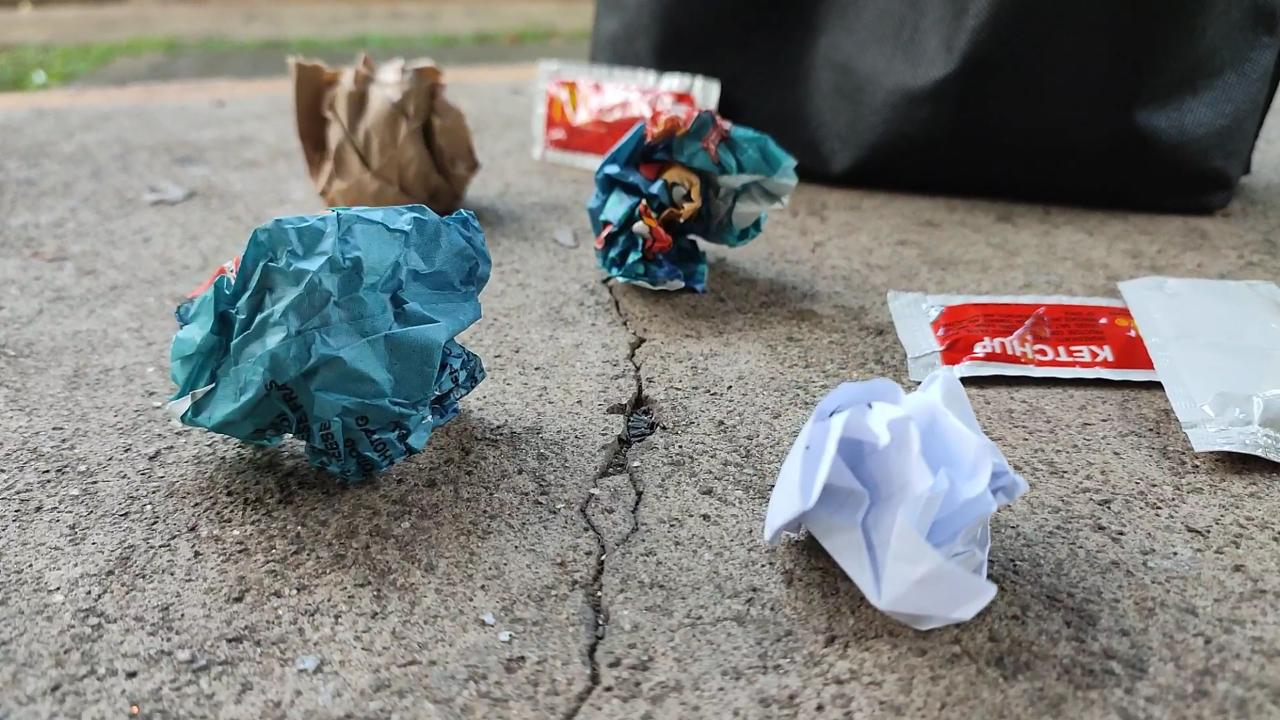paper: (170, 205, 490, 480), (764, 371, 1028, 628), (588, 110, 796, 291), (294, 54, 478, 214)
